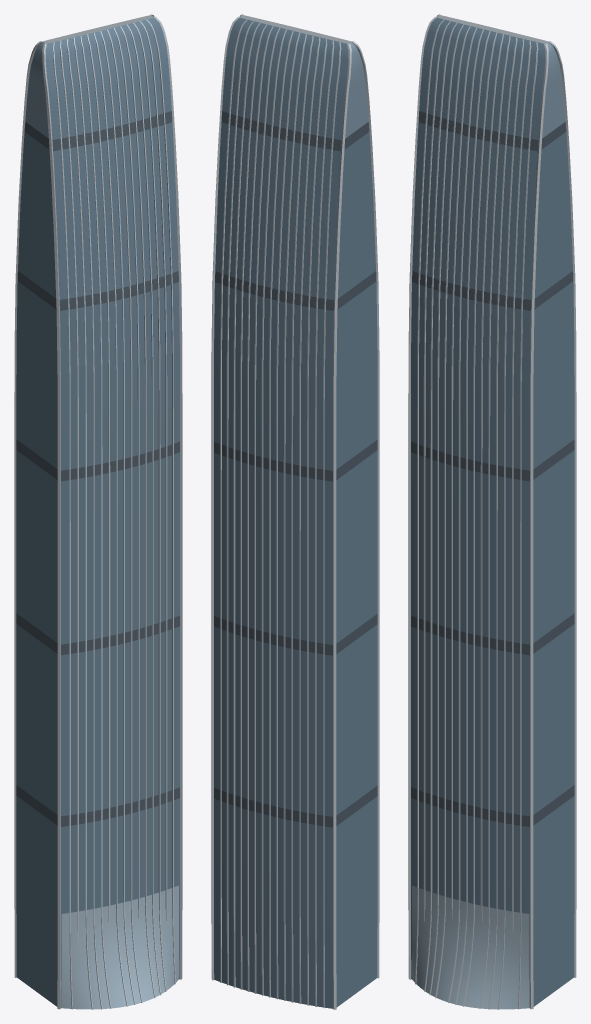
File: shenzhen-kk100.detail.glb
The picture shows the model from 3 angles, left to right: view 1: azimuth 30°, elevation 25°; view 2: azimuth 150°, elevation 25°; view 3: azimuth 330°, elevation 25°; orthographic projection.
Visible parts, largest first — view 1: KK100; view 2: KK100; view 3: KK100.
Part boxes in pixels (bbox=[...]): KK100: bbox=[14, 14, 182, 1009]; KK100: bbox=[211, 14, 379, 1009]; KK100: bbox=[408, 14, 576, 1009].
Bounding box in the file's own units: 60.84 × 442 × 53.18.
